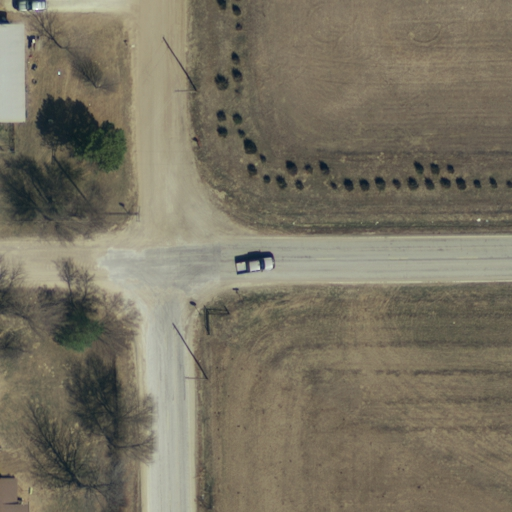DT: (179, 367, 220, 392), (172, 82, 200, 102)
